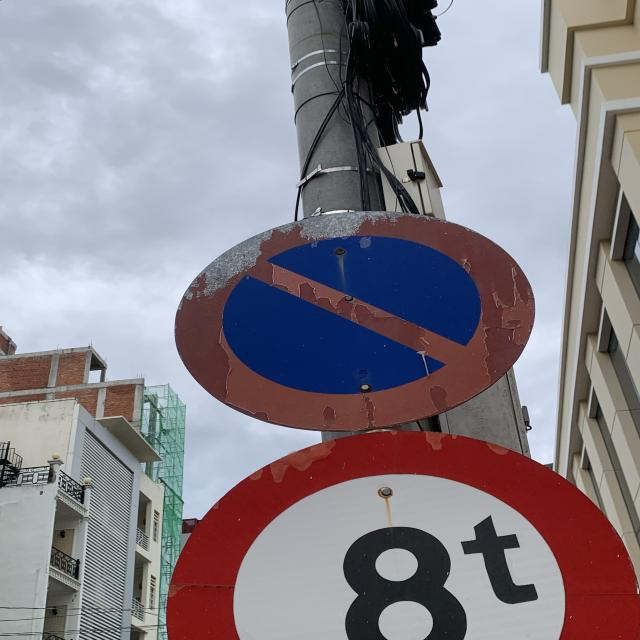Cam_Dau_Xe: (172, 211, 536, 432)
